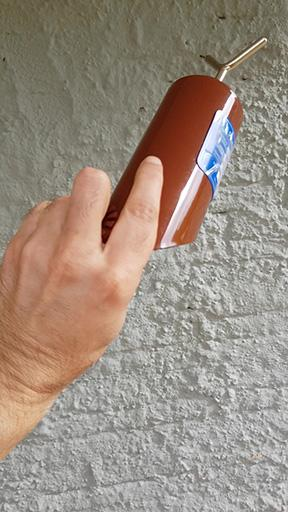Detector_Tensao_Contato: (102, 36, 269, 250)
